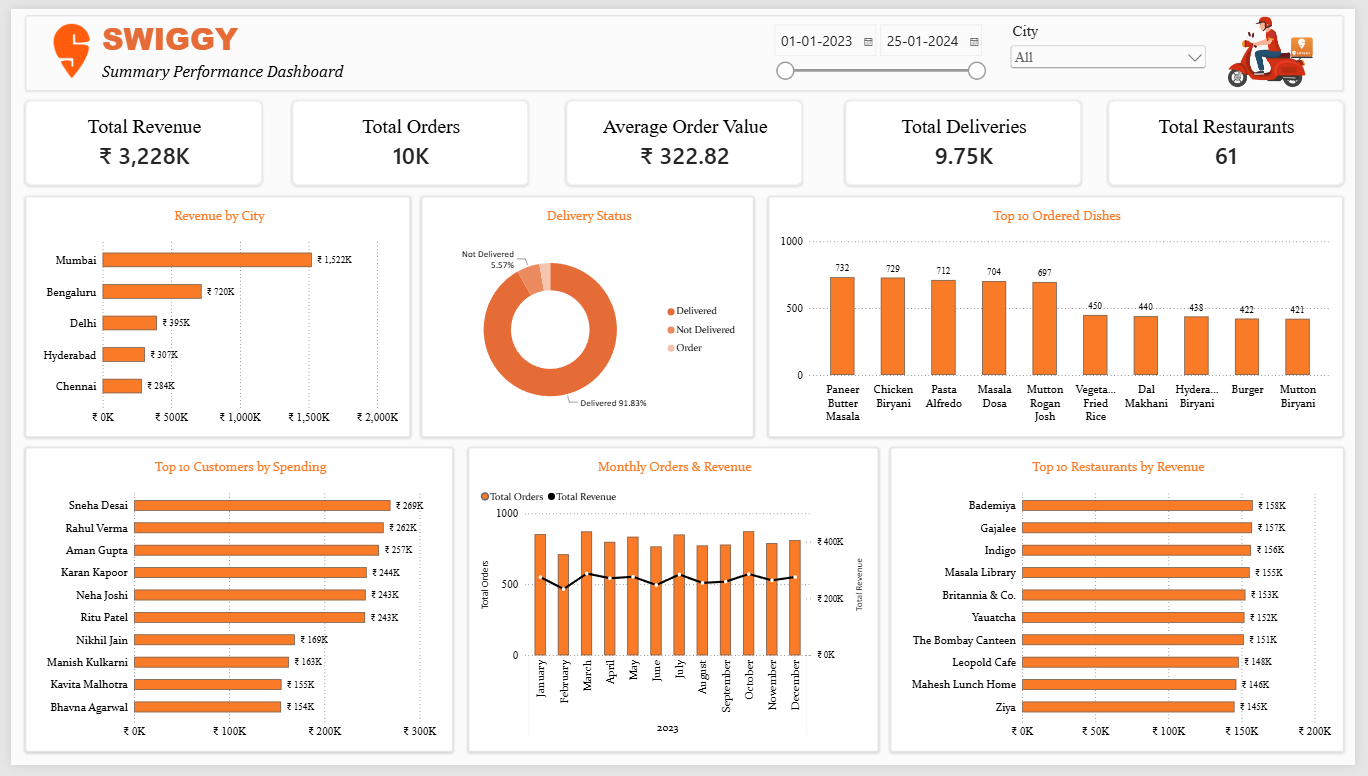

The dashboard page shown, as its layout file describes it:
{"tool":"powerbi","page":{"name":"Page 1","canvas":[1920,1080],"ordinal":0},"visuals":[{"type":"textbox","box":[20,8.6,1884.3,108.6],"z":0},{"type":"cardVisual","fields":{"Data":["CountNonNull(orders.order_id)"]},"box":[401.3,130.3,338.2,122.4],"z":1000},{"type":"cardVisual","title":"Total Revenue","fields":{"Data":["orders.Total Revenue"]},"box":[19.7,130.3,339.5,122.4],"z":2000},{"type":"cardVisual","fields":{"Data":["orders.Total Deliveries"]},"box":[1190.8,130.3,338.2,122.4],"z":3000},{"type":"cardVisual","fields":{"Data":["restaurants.Total Restaurants"]},"box":[1567.1,130.3,336.8,122.4],"z":4000},{"type":"textbox","title":"SWIGGY","box":[130,11,360,97],"z":5000},{"type":"image","box":[31,20,110,80],"z":6000},{"type":"image","box":[1707.1,0,183,117],"z":7000},{"type":"cardVisual","fields":{"Data":["orders.Average Order Value"]},"box":[793.4,130.3,338.2,122.4],"z":8000},{"type":"lineClusteredColumnComboChart","title":"Monthly Orders & Revenue","fields":{"Category":["orders.order_date.Variation.Date Hierarchy.Year","orders.order_date.Variation.Date Hierarchy.Month"],"Y":["orders.Total Orders"],"Y2":["orders.Total Revenue"]},"box":[652.6,625,586.8,435.5],"z":9000},{"type":"clusteredBarChart","title":"Revenue by City","fields":{"Category":["restaurants.city"],"Y":["orders.Total Revenue"]},"box":[19.7,267.1,551.3,344.7],"z":10000},{"type":"clusteredBarChart","title":"Top 10 Restaurants by Revenue","fields":{"Category":["restaurants.restaurant_name"],"Y":["orders.Total Revenue"]},"box":[1255.3,625,648.7,435.5],"z":11000},{"type":"clusteredColumnChart","title":"Top 10 Ordered Dishes","fields":{"Category":["orders.order_item"],"Y":["orders.Total Orders"]},"box":[1081.6,267.1,822.4,344.7],"z":12000},{"type":"donutChart","title":"Delivery Status","fields":{"Category":["deliveries.delivery_status"],"Y":["orders.Total Deliveries"]},"box":[585.5,267.1,476.3,344.7],"z":13000},{"type":"clusteredBarChart","title":"Top 10 Customers by Spending","fields":{"Category":["customers.customer_name"],"Y":["orders.Total Spending"]},"box":[19.7,625,611.8,435.5],"z":14000},{"type":"slicer","fields":{"Values":["orders.order_date"]},"box":[1082.9,17.1,313.2,113.2],"z":15000},{"type":"slicer","fields":{"Values":["restaurants.city"]},"box":[1422.4,19.7,289.5,90.8],"z":16000}]}

Visuals, with their boxes in screenshot pixels (x1, y1, x2, y2), scaled from the page's 1920x1080 canvas onto the 1368x776 screenshot:
textbox: select_region(14, 6, 1357, 84)
cardVisual - CountNonNull(orders.order_id): select_region(286, 94, 527, 182)
"Total Revenue" cardVisual: select_region(14, 94, 256, 182)
cardVisual - orders.Total Deliveries: select_region(848, 94, 1089, 182)
cardVisual - restaurants.Total Restaurants: select_region(1117, 94, 1357, 182)
"SWIGGY" textbox: select_region(93, 8, 349, 78)
image: select_region(22, 14, 100, 72)
image: select_region(1216, 0, 1347, 84)
cardVisual - orders.Average Order Value: select_region(565, 94, 806, 182)
"Monthly Orders & Revenue" lineClusteredColumnComboChart: select_region(465, 449, 883, 762)
"Revenue by City" clusteredBarChart: select_region(14, 192, 407, 440)
"Top 10 Restaurants by Revenue" clusteredBarChart: select_region(894, 449, 1357, 762)
"Top 10 Ordered Dishes" clusteredColumnChart: select_region(771, 192, 1357, 440)
"Delivery Status" donutChart: select_region(417, 192, 757, 440)
"Top 10 Customers by Spending" clusteredBarChart: select_region(14, 449, 450, 762)
slicer - orders.order_date: select_region(772, 12, 995, 94)
slicer - restaurants.city: select_region(1013, 14, 1220, 79)
